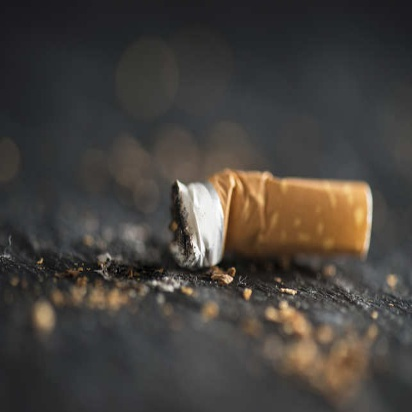cigarette: (156, 164, 385, 272)
